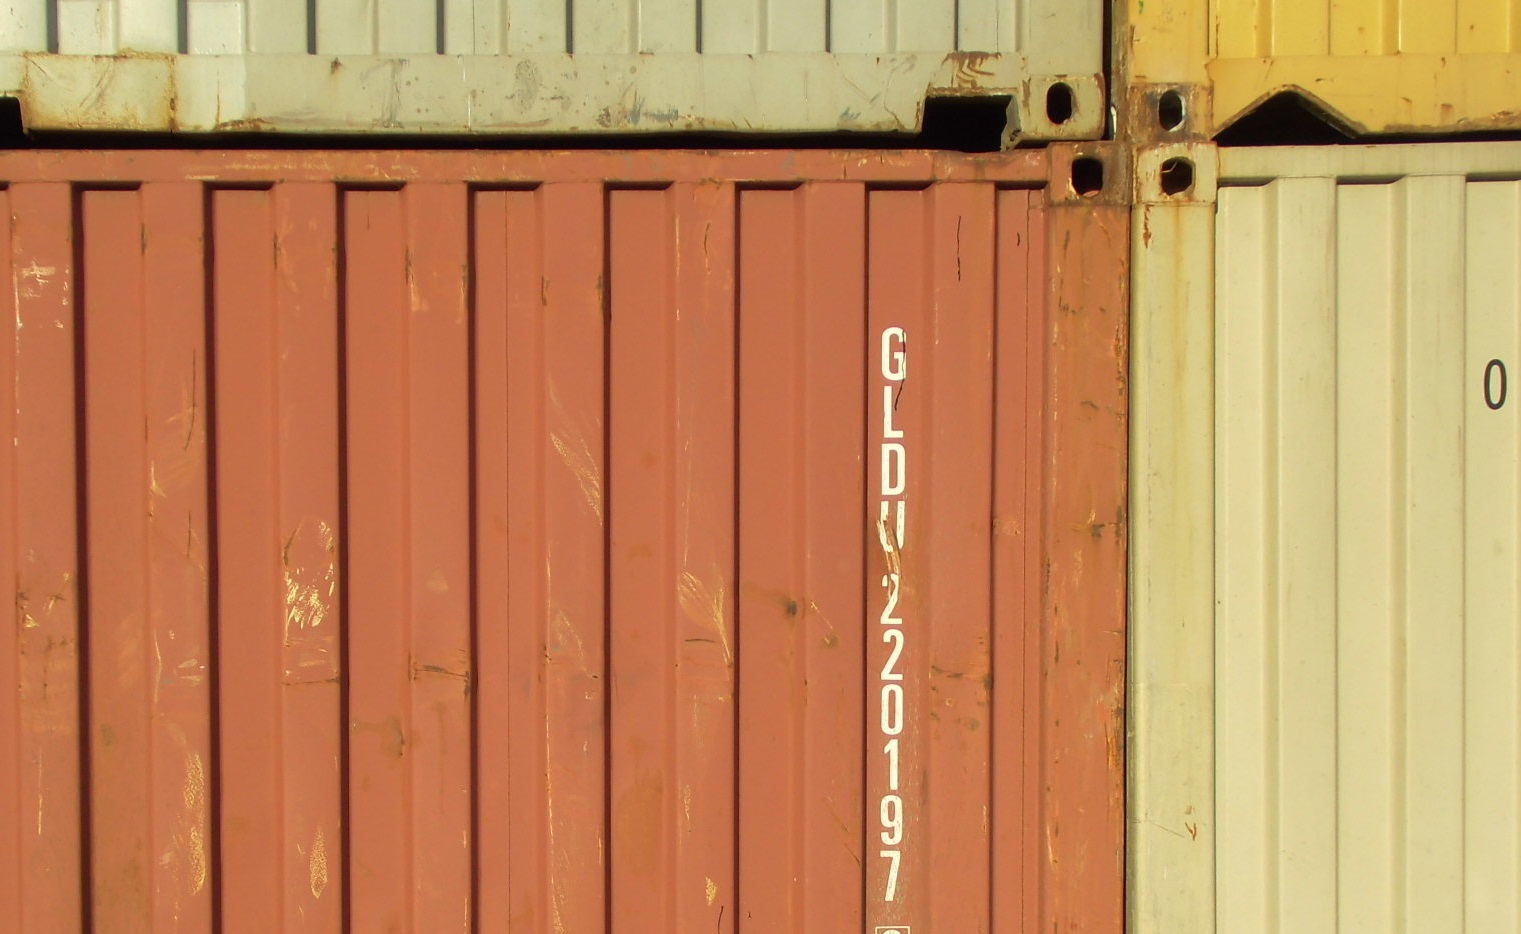container_no_door: (1, 141, 1142, 934)
